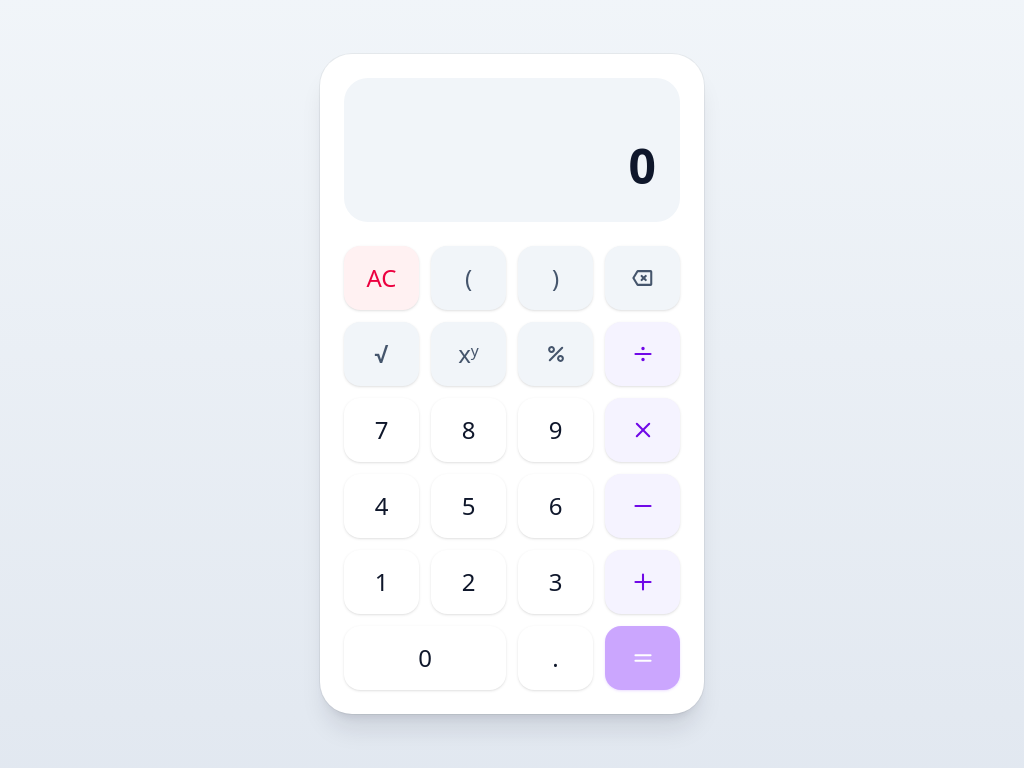
Scenario: App › handles a network failure gracefully, without crashing the app
Click the button "1". click: (382, 582)
box: [344,550,419,614]
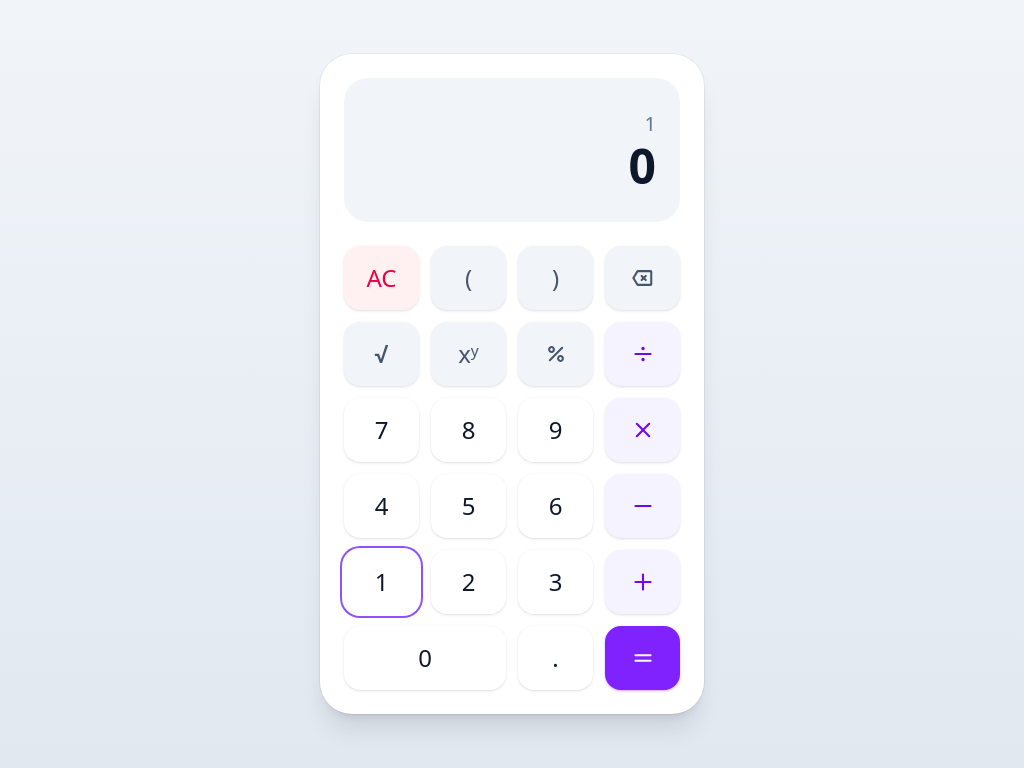
Click the button named "Add". click: (642, 582)
box: [605,550,680,614]
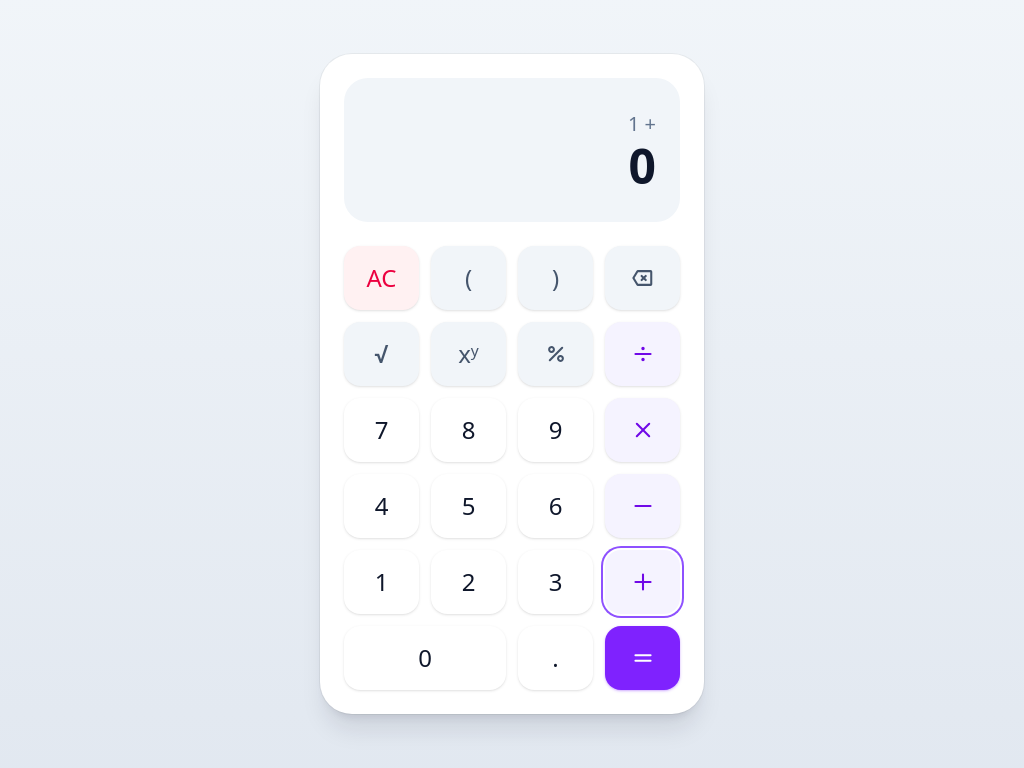
Click the button "1". click: (382, 582)
box: [344,550,419,614]
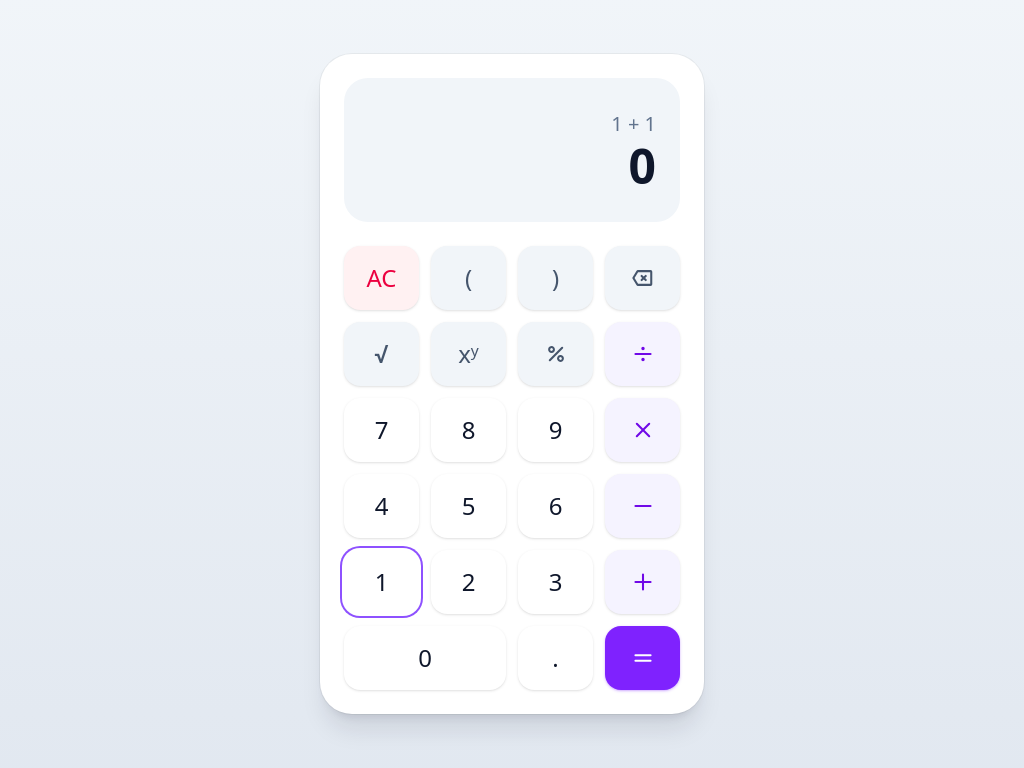
Click the button named "Equals". click: (642, 658)
box: [605,626,680,690]
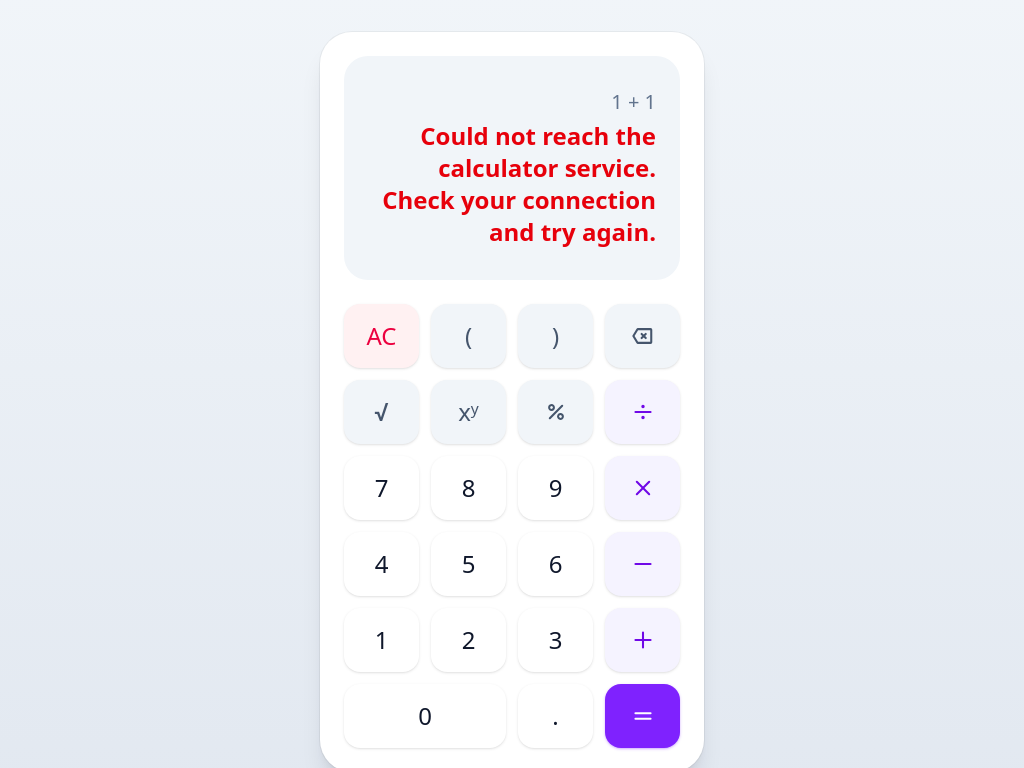
expect the text "Could not reach the calculator service. Check your connection and try again." is shown: met, box [368,120,656,248]
the app must still be fully interactive after a failure - no crash, no stuck state
Click the button with aria-label "All clear". click: (382, 336)
box: [344,304,419,368]
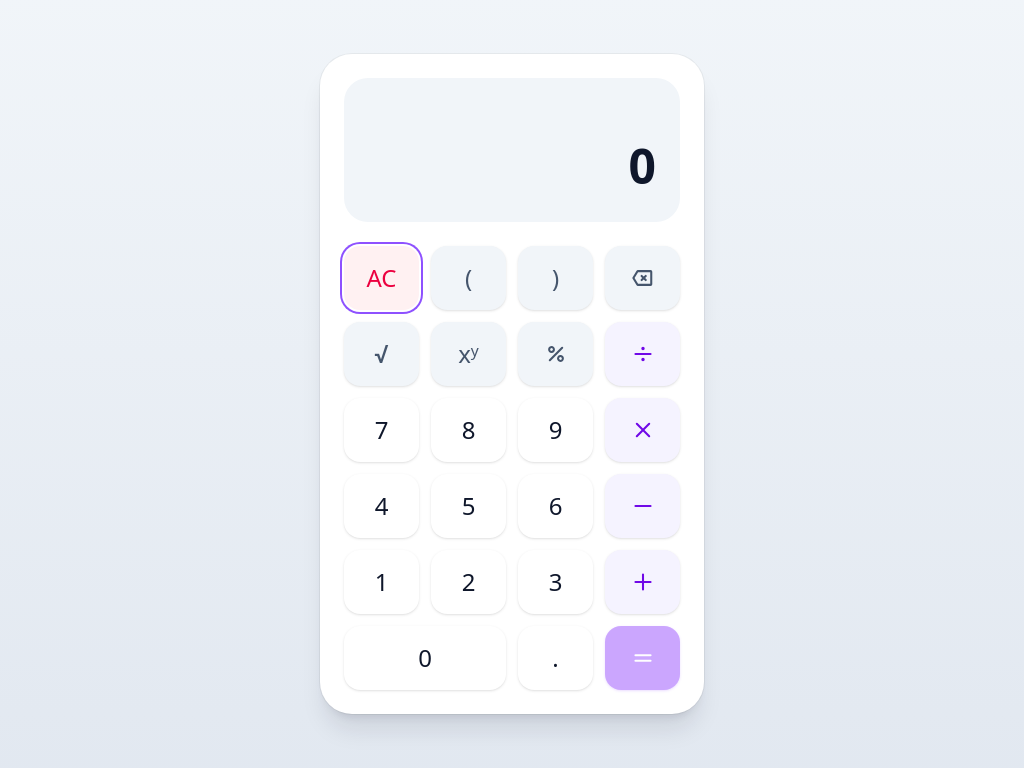
expect the message with test id "result-display" reads "0": met, box [628,133,656,198]
